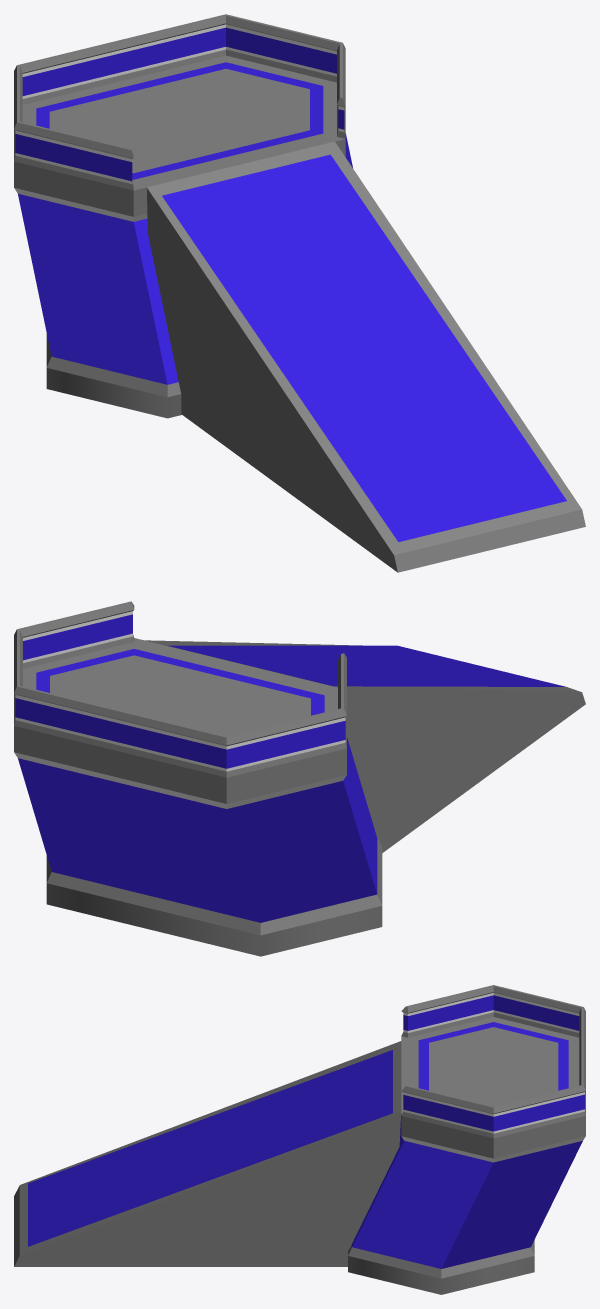
File: App_Platform.fbx
The picture shows the model from 3 angles, top to bottom: view 1: azimuth 30°, elevation 25°; view 2: azimuth 150°, elevation 25°; view 3: azimuth 270°, elevation 25°; orthographic projection. The views are drawn at different scales.
Parts seen in each view (by area): view 1: platform; view 2: platform; view 3: platform.
Part boxes in pixels (x1,y1,x2,y2): platform: [14, 14, 585, 572]; platform: [14, 601, 585, 956]; platform: [14, 985, 585, 1294].
Size of the model in its own units: 106 by 73.27 by 205.
